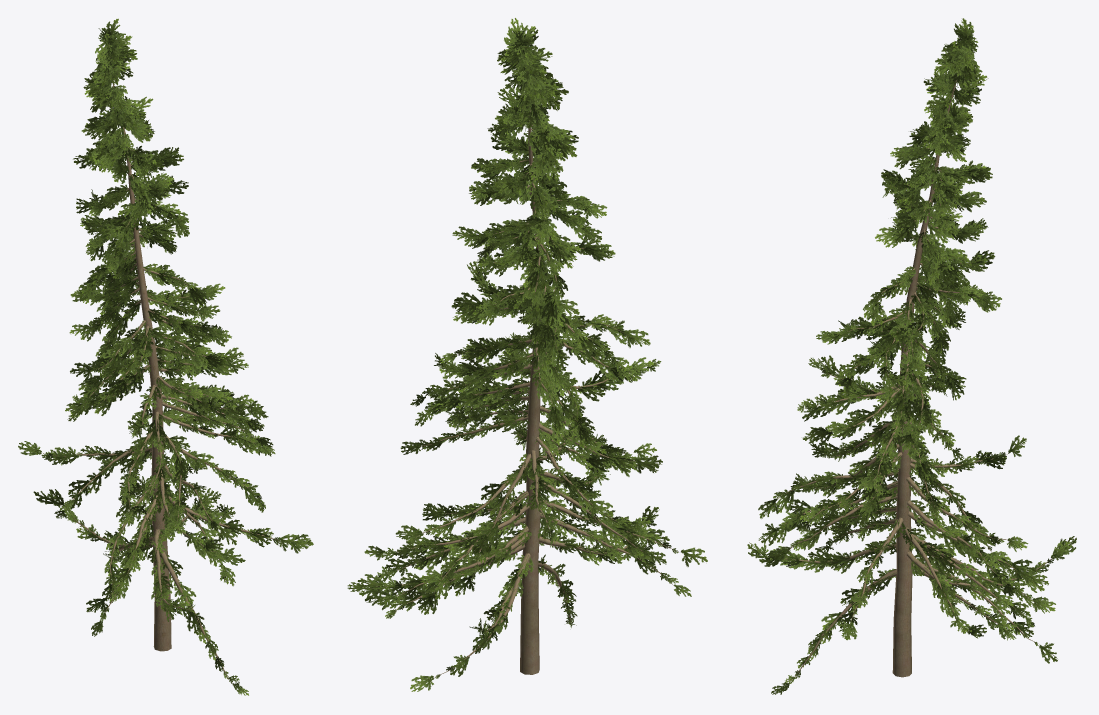
The model's file is pine_small_03.glb.
3 views of the same model, side by side, from view 1: azimuth 30°, elevation 25°; view 2: azimuth 150°, elevation 25°; view 3: azimuth 270°, elevation 25° (orthographic). The views are drawn at different scales.
Parts seen in each view (by area): view 1: Tree; view 2: Tree; view 3: Tree.
Boxes of the visible parts, box(x1,y1,x2,y2) form: Tree: box(18, 18, 313, 695); Tree: box(347, 18, 707, 691); Tree: box(747, 18, 1076, 694).
Size of the model in its own units: 17.08 by 41.67 by 19.55.
Materials: 2 (2 with a texture image).
